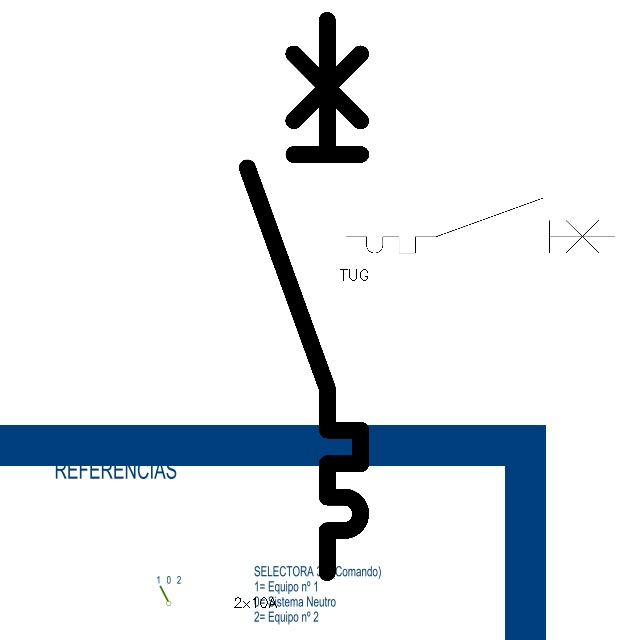interruptor_termomagnetico: (233, 6, 375, 587), (339, 191, 622, 260)
